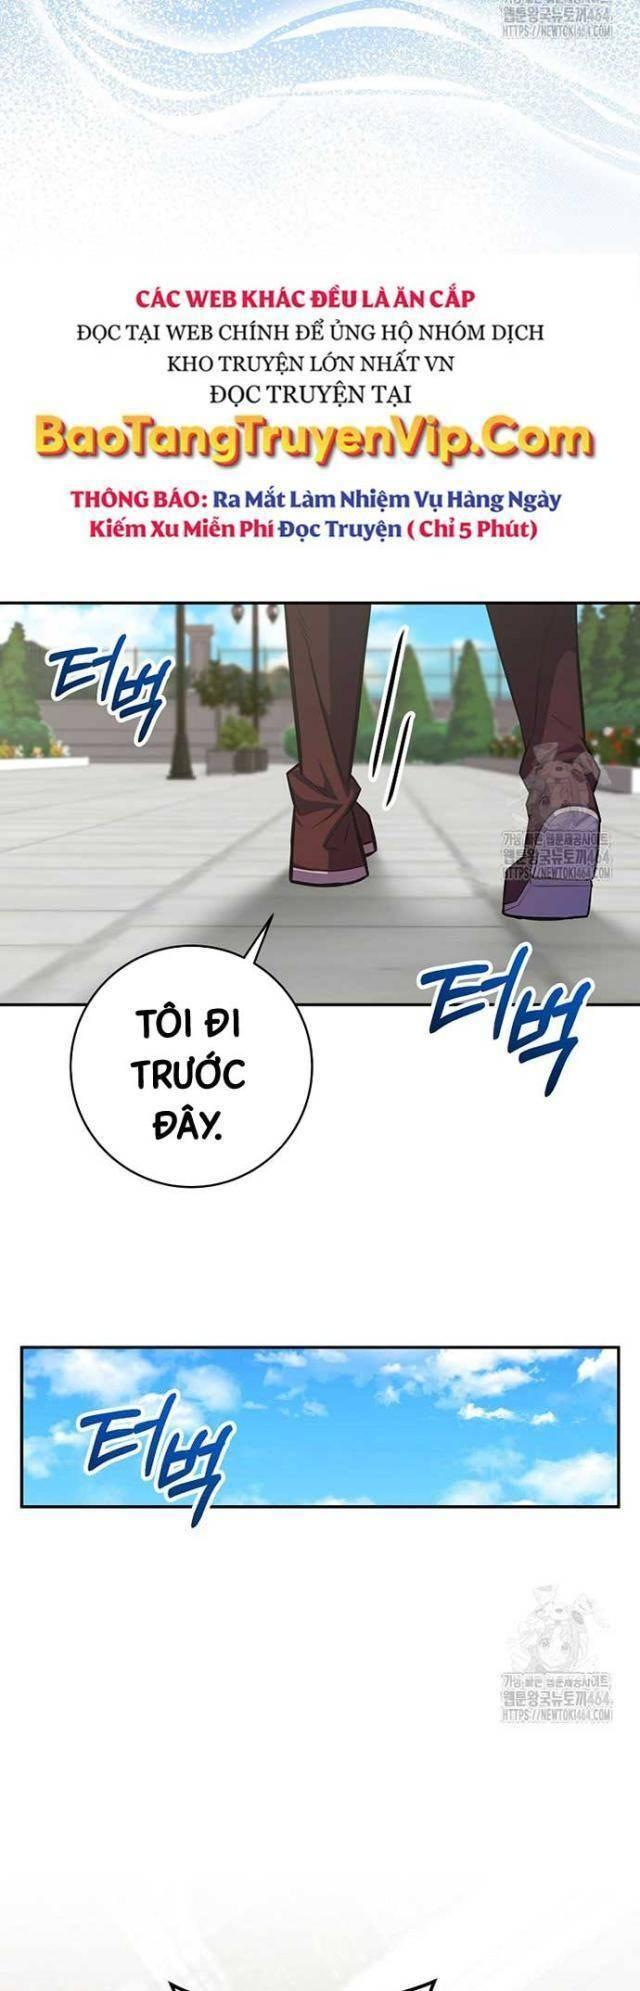quangcao: (25, 276, 607, 547)
